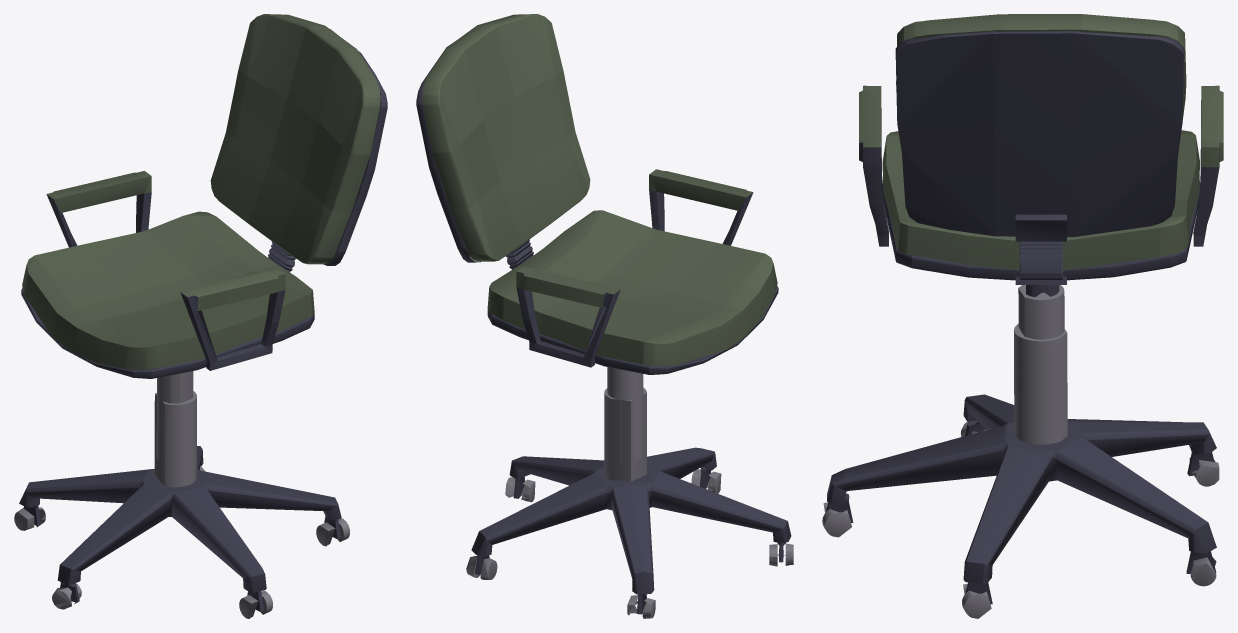
File: Silla.obj
3 renders of one model, left to right at view 1: azimuth 30°, elevation 25°; view 2: azimuth 150°, elevation 25°; view 3: azimuth 270°, elevation 25°, orthographic. The views are drawn at different scales.
Visible parts, largest first — view 1: Office_chair:Office_chair; view 2: Office_chair:Office_chair; view 3: Office_chair:Office_chair.
Part boxes in pixels (x1,y1,x2,y2): Office_chair:Office_chair: (14,14,387,618); Office_chair:Office_chair: (416,14,793,618); Office_chair:Office_chair: (822,14,1223,618).
Bounding box in the file's own units: 3.12 × 4.58 × 2.73.
Materials: 4 (3 with a texture image).
